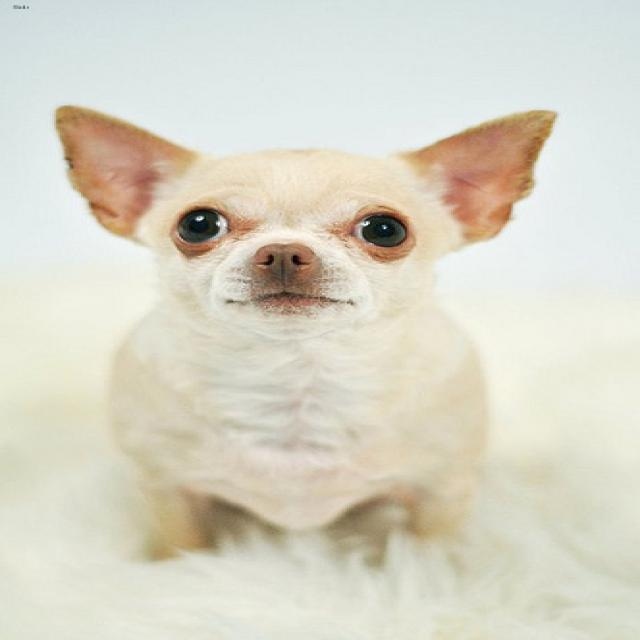dog-chihuahua: (33, 86, 580, 573)
